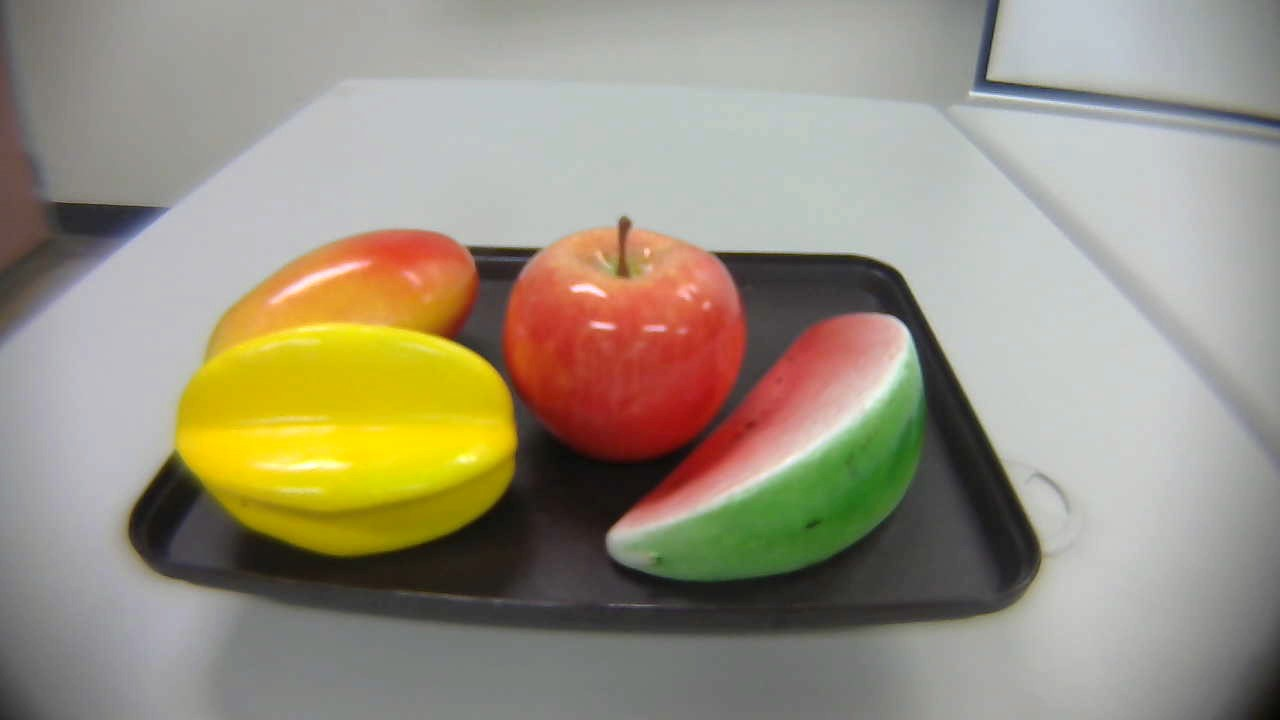red apple: (505, 214, 748, 466)
red mango: (195, 226, 482, 383)
star fruit: (175, 318, 523, 551)
water melon: (588, 306, 943, 598)
